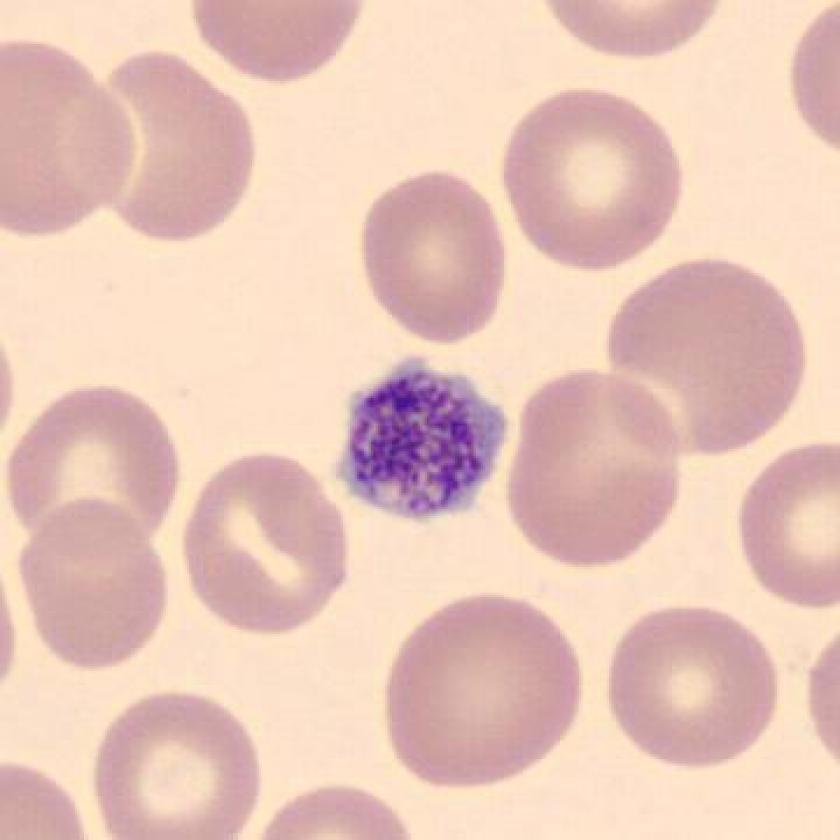platelets: (330, 348, 517, 540)
